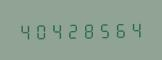eight: (81, 19, 96, 39)
five: (97, 19, 112, 39)
four: (49, 20, 64, 40), (17, 21, 32, 40), (129, 19, 144, 38)
six: (113, 19, 128, 39)
two: (65, 20, 80, 40)
zero: (33, 20, 48, 40)
